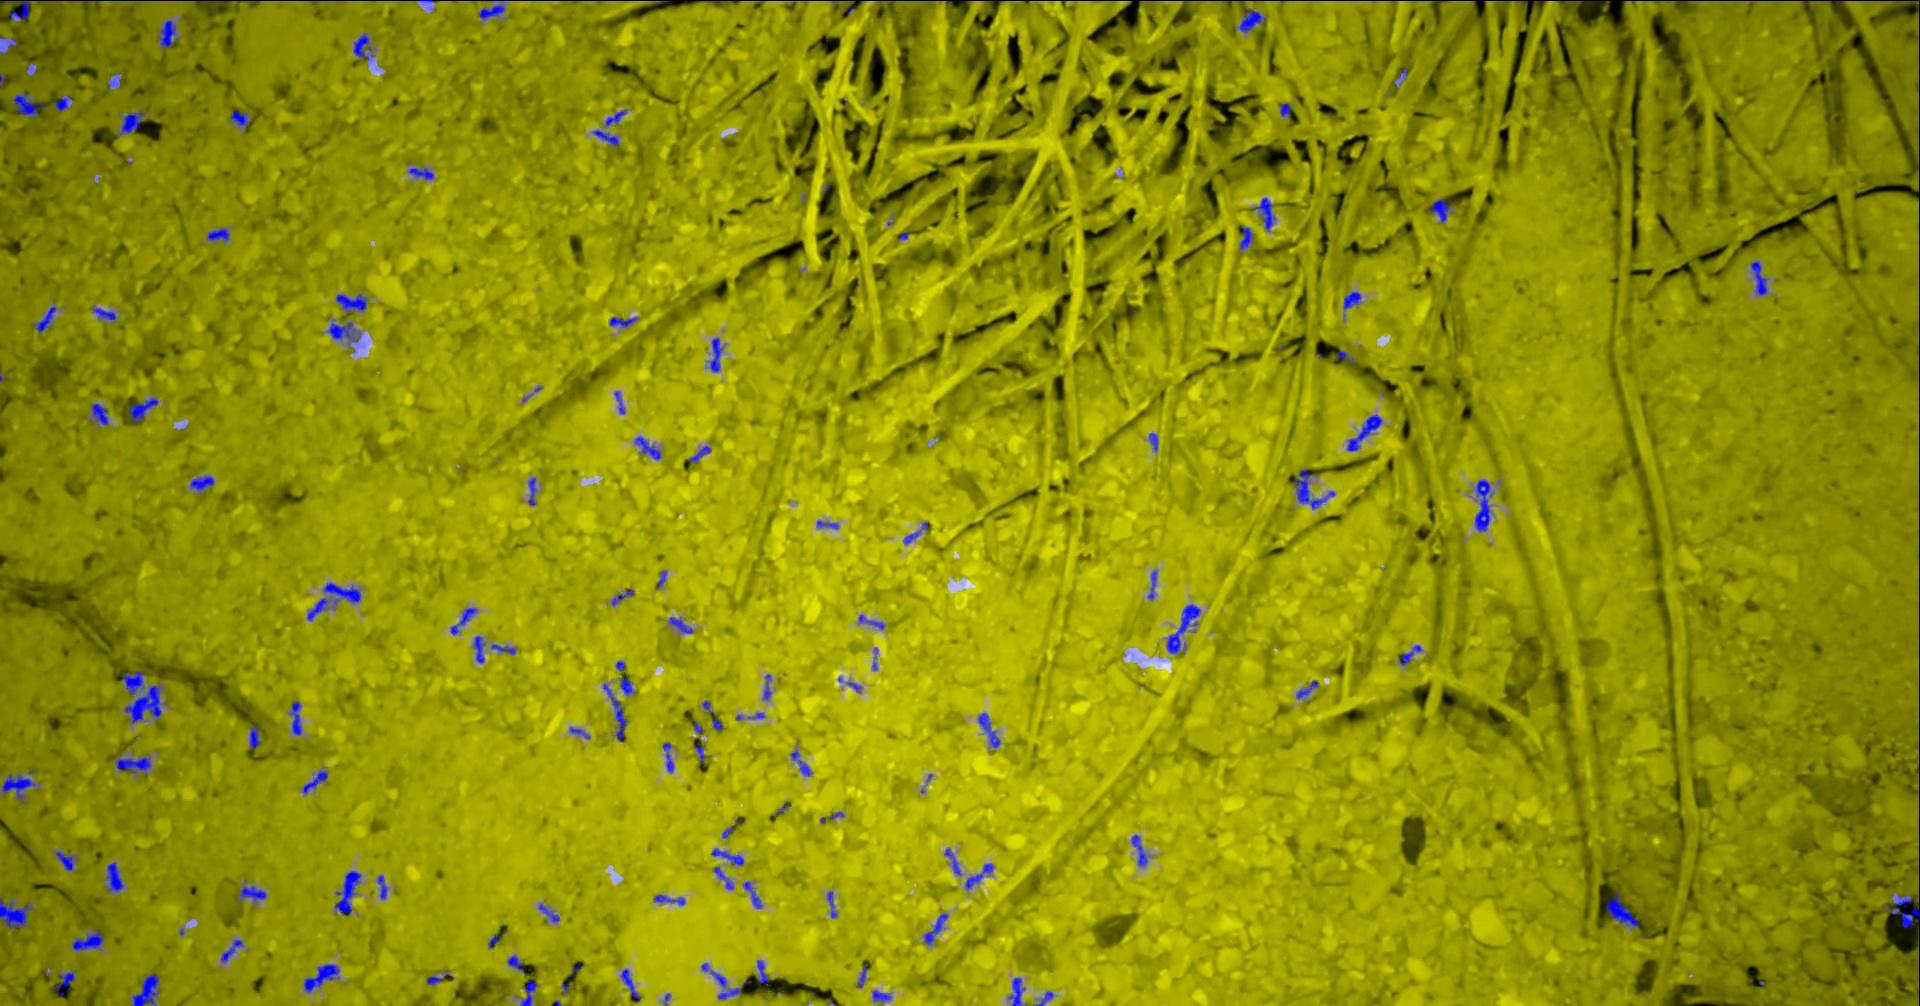ant: (123, 671, 163, 723), (1294, 467, 1336, 508), (1168, 603, 1203, 653), (604, 683, 629, 741), (1349, 414, 1384, 451), (1884, 894, 1920, 929), (1608, 892, 1641, 926), (337, 870, 362, 915), (305, 963, 342, 992), (1, 897, 33, 929), (1, 774, 37, 801), (1476, 479, 1493, 531), (13, 91, 48, 117), (133, 973, 161, 1005), (325, 582, 362, 605), (979, 713, 1002, 747), (966, 862, 996, 889), (130, 398, 159, 423), (1255, 197, 1276, 231), (924, 913, 949, 944), (1236, 9, 1267, 32), (72, 929, 105, 950), (452, 607, 477, 634), (117, 754, 152, 774), (329, 321, 362, 342), (622, 969, 643, 1001), (5, 0, 33, 22), (122, 111, 147, 133), (636, 436, 662, 459), (303, 770, 329, 793), (356, 32, 376, 60), (1752, 260, 1769, 295), (36, 306, 57, 332), (712, 848, 745, 865), (337, 293, 368, 310), (1133, 835, 1149, 866), (309, 597, 331, 620), (222, 939, 245, 962), (1430, 198, 1451, 222), (905, 521, 930, 542), (1399, 644, 1423, 666), (107, 862, 124, 892), (792, 749, 811, 776), (744, 882, 763, 908), (290, 700, 303, 735), (480, 0, 505, 19), (57, 970, 76, 996), (160, 19, 177, 48), (715, 866, 735, 889), (1010, 977, 1026, 1005), (711, 337, 724, 372), (594, 130, 621, 146), (946, 848, 963, 875), (241, 887, 268, 903), (91, 403, 110, 426), (1297, 680, 1319, 699), (538, 903, 561, 922), (690, 445, 712, 462), (860, 614, 886, 629), (190, 475, 215, 492), (522, 981, 538, 1005), (56, 850, 75, 870), (509, 955, 530, 974), (612, 588, 635, 605), (670, 617, 695, 633), (757, 959, 771, 984), (664, 742, 676, 772), (410, 166, 436, 179), (1241, 225, 1255, 248), (475, 635, 486, 663), (1345, 291, 1363, 309), (607, 109, 627, 124), (655, 894, 686, 904), (232, 111, 251, 126), (208, 227, 231, 240), (93, 307, 118, 319), (491, 643, 517, 654), (1035, 991, 1055, 1005), (615, 390, 626, 414), (711, 970, 728, 987), (56, 95, 74, 111), (621, 676, 636, 694), (828, 890, 838, 917), (1338, 349, 1357, 363), (858, 964, 870, 987), (719, 987, 742, 998), (1149, 570, 1158, 600), (611, 318, 639, 326), (378, 875, 389, 899), (874, 989, 893, 1002), (251, 725, 262, 748), (695, 743, 706, 763), (764, 674, 773, 699), (530, 478, 537, 506), (818, 520, 841, 528), (1281, 103, 1294, 117), (1150, 432, 1159, 450), (196, 0, 262, 1)
